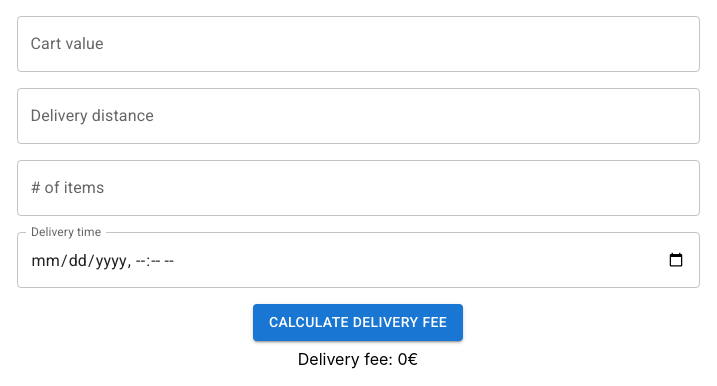
Test: total delivery fee values based on inputs › delivery fee value is correct with certain parameters
The image size is (717, 386).
Step 1. Type "10" into the field labelled "Cart value" → (358, 44), box [16,16,700,72]
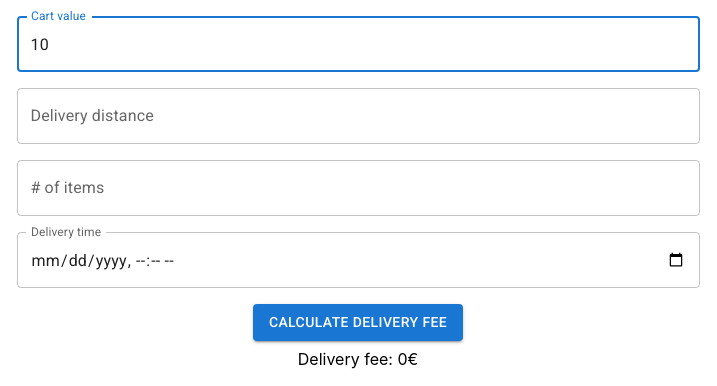
Step 2. Type "1500" into the field labelled "Delivery distance" → (358, 116), box [16,88,700,144]
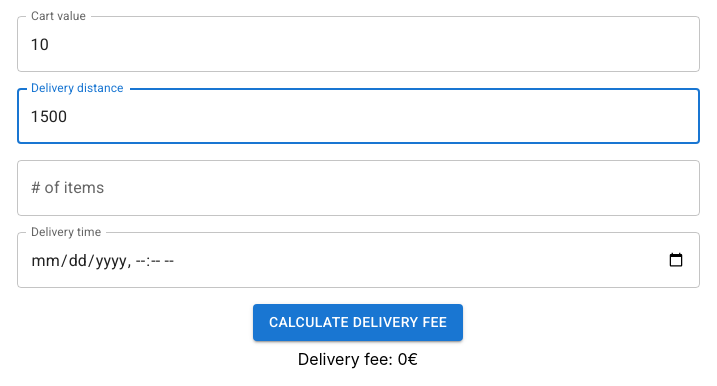
Step 3. Type "13" into the field labelled "# of items" → (358, 188), box [16,160,700,216]
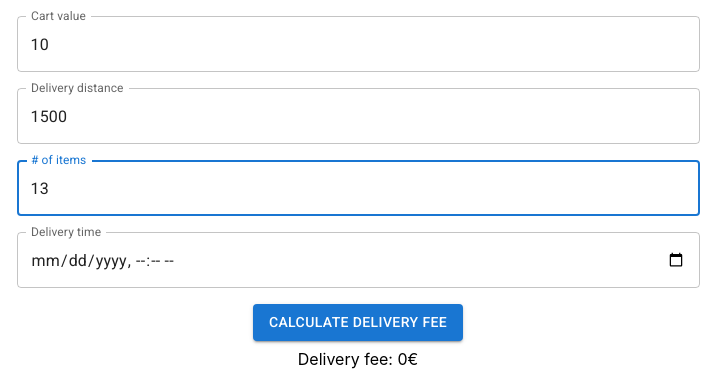
Step 4. Type "2024-01-25T11:48" into the field labelled "Delivery time" → (358, 260), box [16,232,700,288]
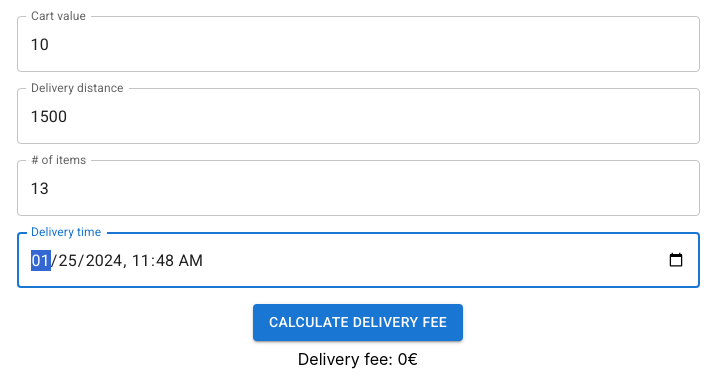
Step 5. Click the button "Calculate delivery fee" → (358, 322), box [253,304,463,340]
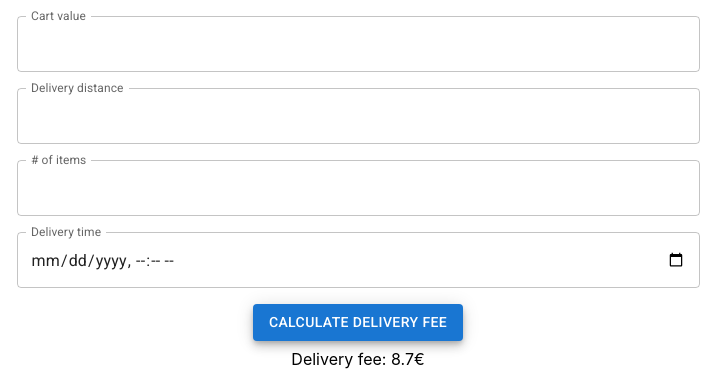
Result: the text "Delivery fee: 0€" is gone
Result: the text "Delivery fee: 8.7€" is shown at [291,348,425,368]
